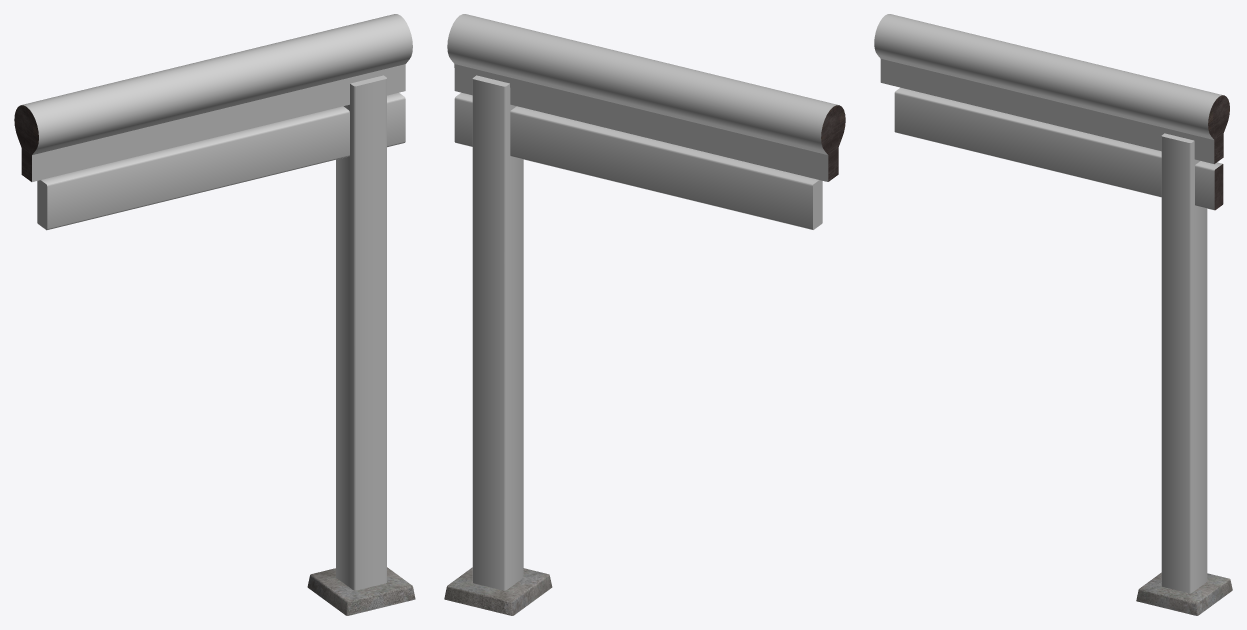
The model's file is SM_Pillar_8.FBX.
3 views of the same model, side by side, from view 1: azimuth 30°, elevation 25°; view 2: azimuth 150°, elevation 25°; view 3: azimuth 330°, elevation 25° (orthographic). The views are drawn at different scales.
Visible parts, largest first — view 1: SM_Pillar_8; view 2: SM_Pillar_8; view 3: SM_Pillar_8.
Part boxes in pixels (x1,y1,x2,y2): SM_Pillar_8: (14,14,415,615); SM_Pillar_8: (444,14,845,615); SM_Pillar_8: (874,14,1232,615).
Size of the model in its own units: 580 by 843 by 108.
